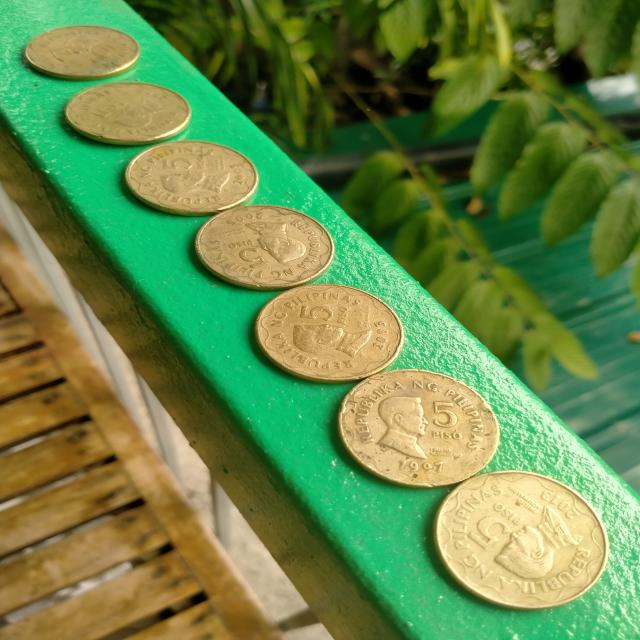5_Old_Front: (358, 380, 474, 473), (210, 212, 320, 280)
